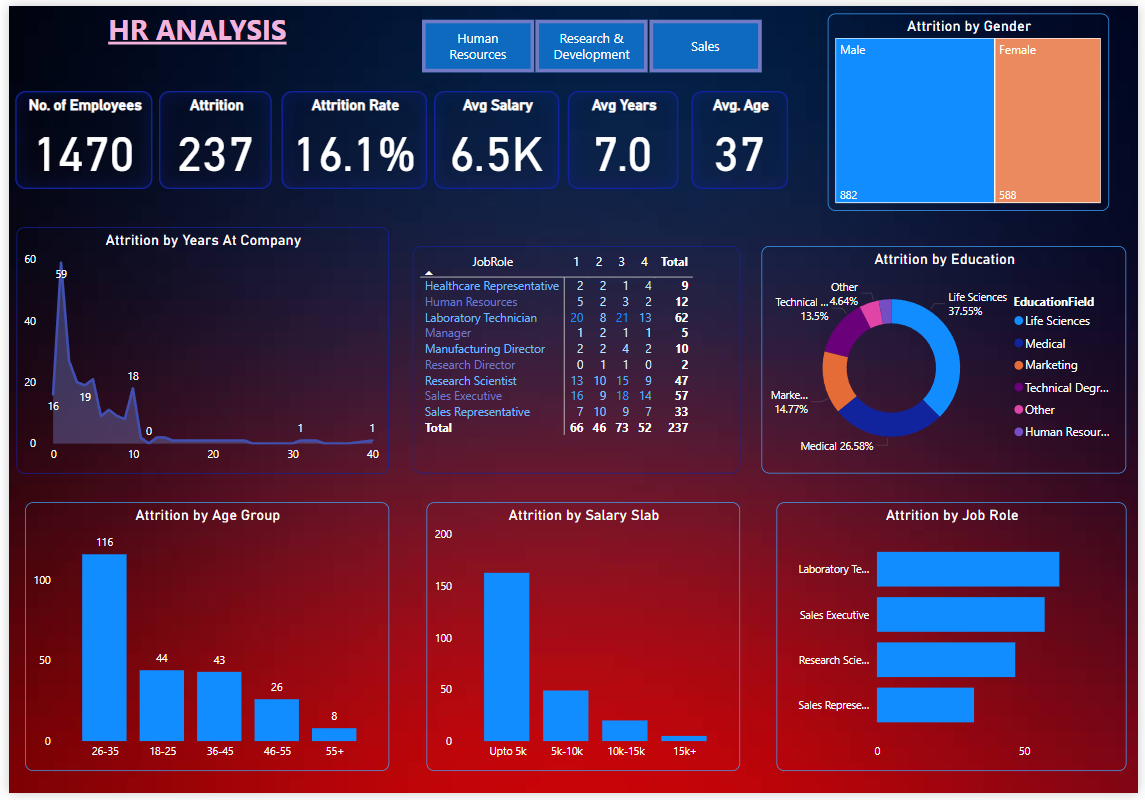

This screenshot's page, from the dashboard's own definition file:
{"tool":"powerbi","page":{"name":"Page 1","canvas":[1291,899],"ordinal":0},"visuals":[{"type":"card","title":"Attrition","fields":{"Values":["Sum(HR_Analytics.AttritionCount)"]},"box":[172,97,129,112],"z":0},{"type":"card","title":"Avg. Age","fields":{"Values":["Avg(HR_Analytics.Age)"]},"box":[780,97,110,112],"z":1000},{"type":"card","title":"No. of Employees","fields":{"Values":["Sum(HR_Analytics.EmployeeCount)"]},"box":[7,97,157,112],"z":2000},{"type":"card","title":"Attrition Rate","fields":{"Values":["HR_Analytics.AttritionRate"]},"box":[311,97,166,112],"z":3000},{"type":"card","title":"Avg Years","fields":{"Values":["Avg(HR_Analytics.YearsAtCompany)"]},"box":[639,97,126,112],"z":4000},{"type":"card","title":"Avg Salary","fields":{"Values":["Avg(HR_Analytics.MonthlyIncome)"]},"box":[485,97,143,112],"z":5000},{"type":"treemap","title":"Attrition by Gender","fields":{"Group":["HR_Analytics.Gender"],"Values":["CountNonNull(HR_Analytics.AttritionCount)"]},"box":[935,8.8,310,201.2],"z":6000},{"type":"donutChart","title":"Attrition by Education","fields":{"Category":["HR_Analytics.EducationField"],"Y":["Sum(HR_Analytics.AttritionCount)"]},"box":[862,239,416,260],"z":7000},{"type":"columnChart","title":"Attrition by Age Group","fields":{"Category":["HR_Analytics.AgeGroup"],"Y":["Sum(HR_Analytics.AttritionCount)"]},"box":[18.8,536.2,415,253.8],"z":8000},{"type":"pivotTable","fields":{"Rows":["HR_Analytics.JobRole"],"Columns":["HR_Analytics.JobSatisfaction"],"Values":["Sum(HR_Analytics.AttritionCount)"]},"box":[485,239,339,260],"z":9000},{"type":"columnChart","title":"Attrition by Salary Slab","fields":{"Category":["HR_Analytics.SalarySlab"],"Y":["Sum(HR_Analytics.AttritionCount)"]},"box":[485,536.2,338.8,253.8],"z":10000},{"type":"barChart","title":"Attrition by Job Role","fields":{"Category":["HR_Analytics.JobRole"],"Y":["Sum(HR_Analytics.AttritionCount)"]},"box":[902.5,536.2,358.8,253.8],"z":11000},{"type":"areaChart","title":"Attrition by Years At Company","fields":{"Category":["HR_Analytics.YearsAtCompany"],"Y":["Sum(HR_Analytics.AttritionCount)"]},"box":[7.5,238.8,438.8,253.8],"z":12000},{"type":"slicer","fields":{"Values":["HR_Analytics.Department"]},"box":[446,9,438,74],"z":13000},{"type":"textbox","box":[7.5,0,416.2,82.5],"z":14000}]}

Visuals, with their boxes in screenshot pixels (x1, y1, x2, y2), scaled from the page's 1291x899 canvas onto the 1145x800 screenshot:
"Attrition" card: <bbox>153, 86, 267, 186</bbox>
"Avg. Age" card: <bbox>692, 86, 789, 186</bbox>
"No. of Employees" card: <bbox>6, 86, 145, 186</bbox>
"Attrition Rate" card: <bbox>276, 86, 423, 186</bbox>
"Avg Years" card: <bbox>567, 86, 678, 186</bbox>
"Avg Salary" card: <bbox>430, 86, 557, 186</bbox>
"Attrition by Gender" treemap: <bbox>829, 8, 1104, 187</bbox>
"Attrition by Education" donutChart: <bbox>765, 213, 1133, 444</bbox>
"Attrition by Age Group" columnChart: <bbox>17, 477, 385, 703</bbox>
pivotTable - HR_Analytics.JobRole x HR_Analytics.JobSatisfaction: <bbox>430, 213, 731, 444</bbox>
"Attrition by Salary Slab" columnChart: <bbox>430, 477, 731, 703</bbox>
"Attrition by Job Role" barChart: <bbox>800, 477, 1119, 703</bbox>
"Attrition by Years At Company" areaChart: <bbox>7, 213, 396, 438</bbox>
slicer - HR_Analytics.Department: <bbox>396, 8, 784, 74</bbox>
textbox: <bbox>7, 0, 376, 73</bbox>
